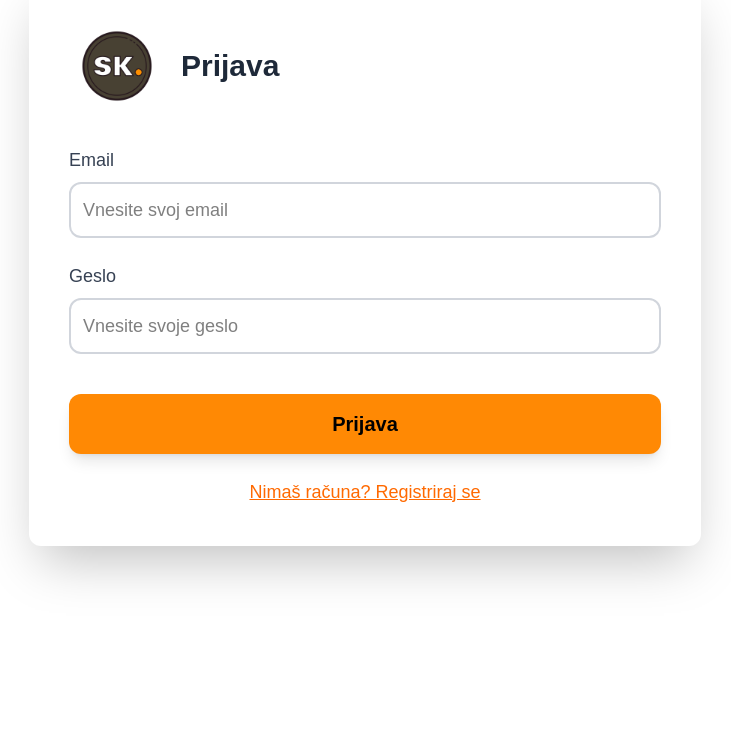
Test: AuthForm Component › Mode Switching › switches back to login mode when clicking login link
The image size is (731, 746).
expect the heading "Prijava" is shown: met, box [181,48,279,84]
// Preklopimo na registracijo
Click the button "Nimaš računa? Registriraj se": (365, 492) [250,478,481,506]
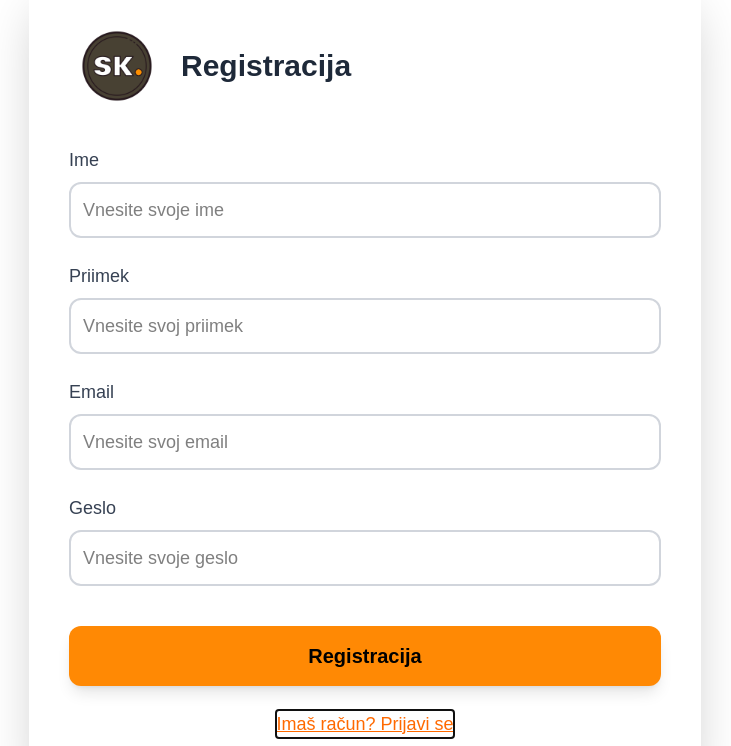
expect the heading "Registracija" is shown: met, box [181,48,351,84]
// Preklopimo nazaj na prijavo
Click the button "Imaš račun? Prijavi se": (365, 724) [276,710,454,738]
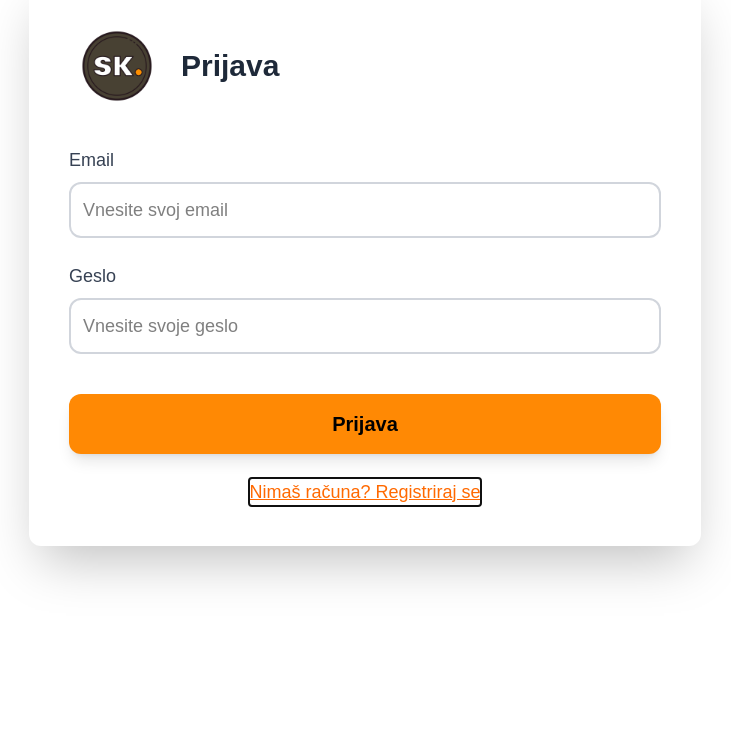
expect the field with placeholder "Vnesite svoje ime" is not shown: met
expect the heading "Prijava" is shown: met, box [181,48,279,84]
